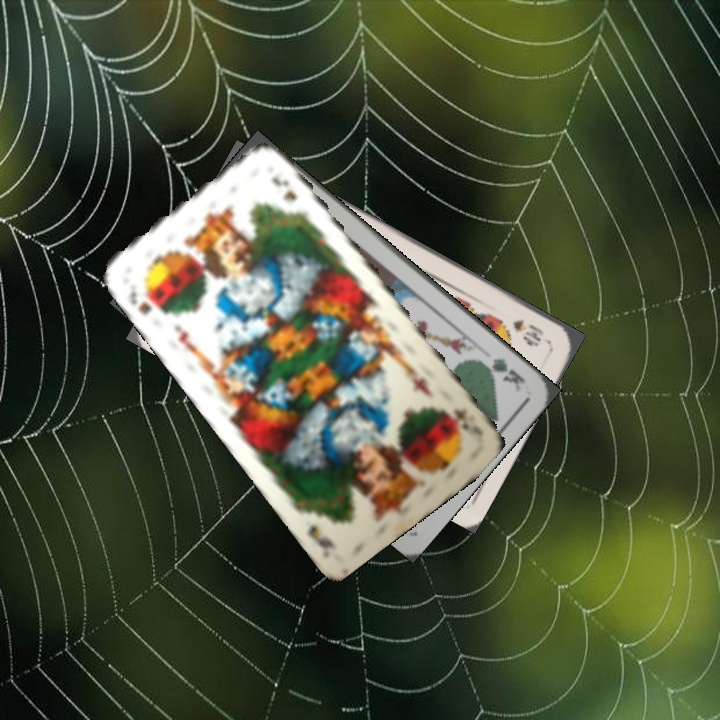GK: (475, 353, 528, 395)
S10: (509, 315, 552, 347)
SK: (125, 281, 167, 318), (437, 401, 474, 436)
